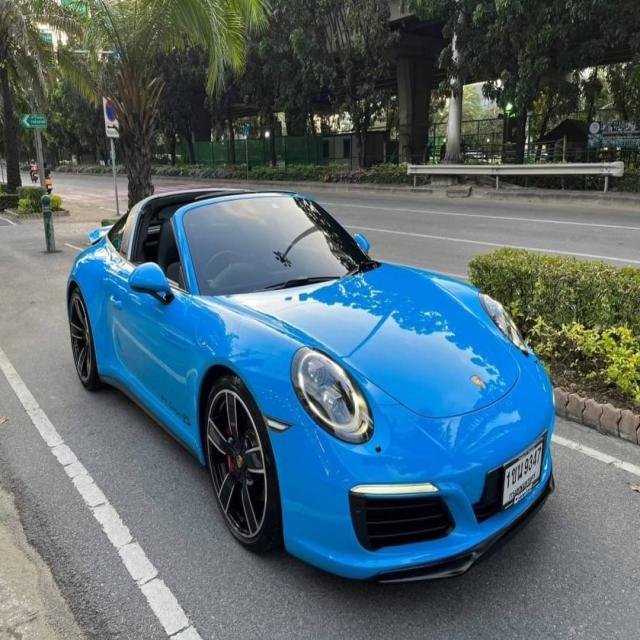license_plate: (496, 434, 554, 515)
